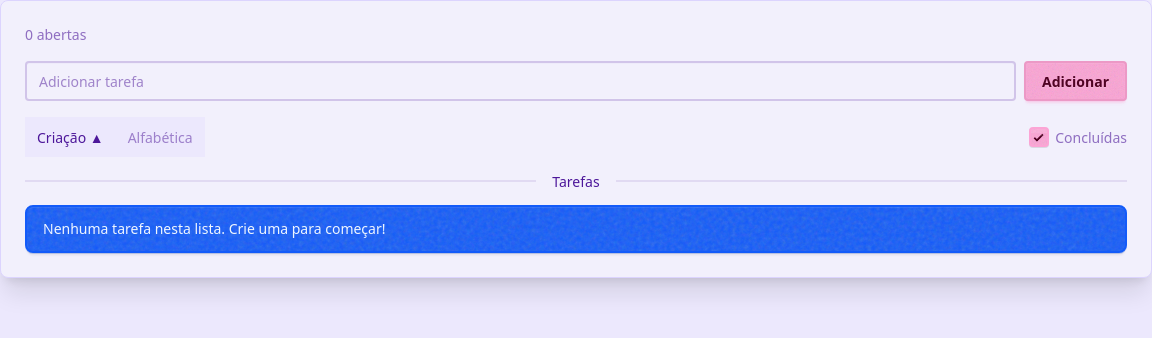
Test: TaskList com Context › exibe botão para adicionar/editar data
The width and height of the screenshot is (1152, 338).
Type "Tarefa com data" into the field with test id "input-new-task" at (521,81), box [25,61,1016,101]
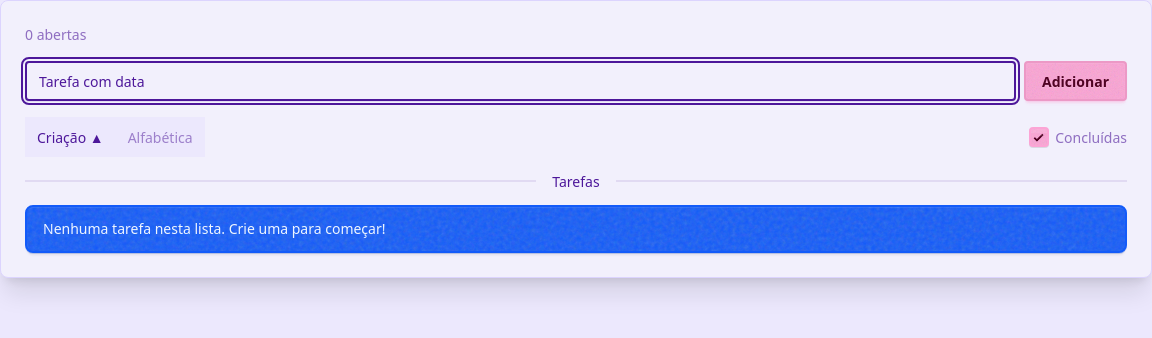
Press Enter
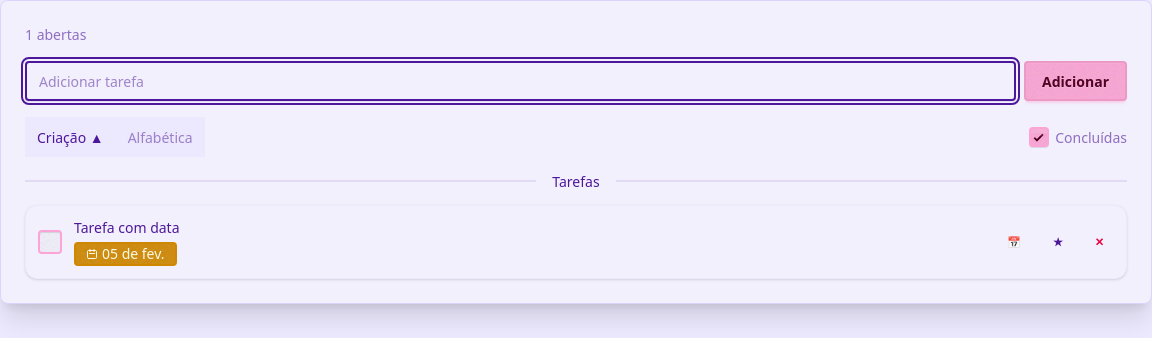
Result: the button named "Adicionar/editar data" is shown at [997,230,1031,254]
